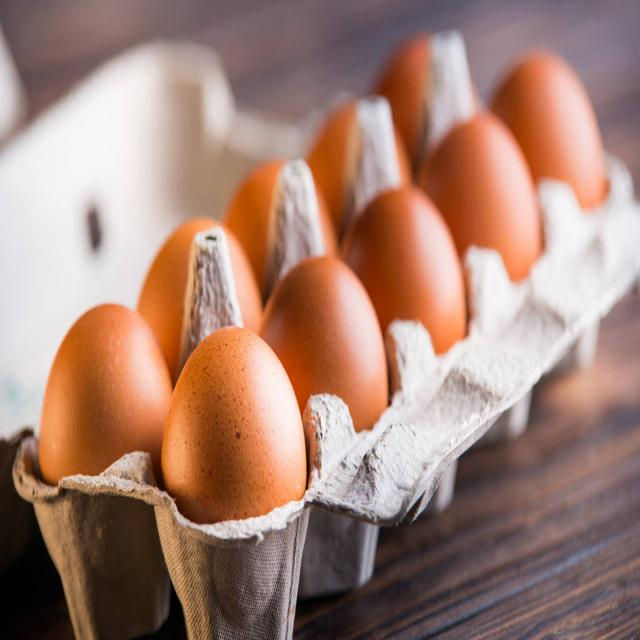huevos: (154, 320, 316, 549)
